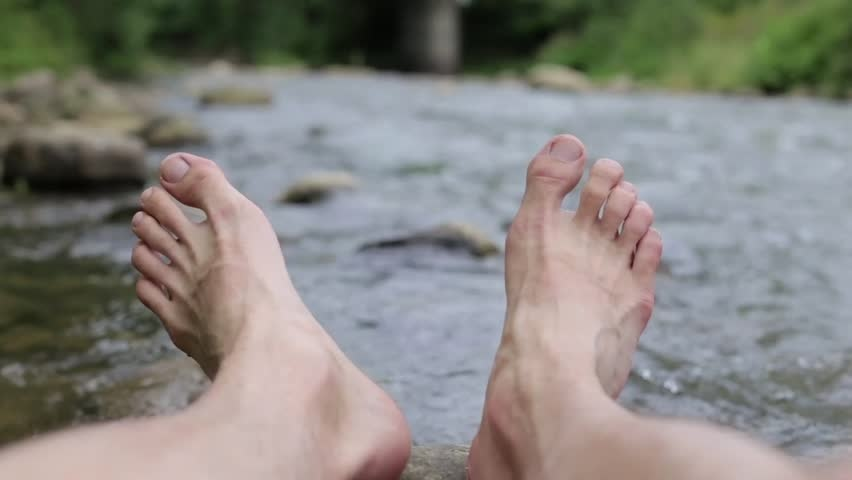feet: (54, 123, 418, 475), (454, 108, 665, 474)
